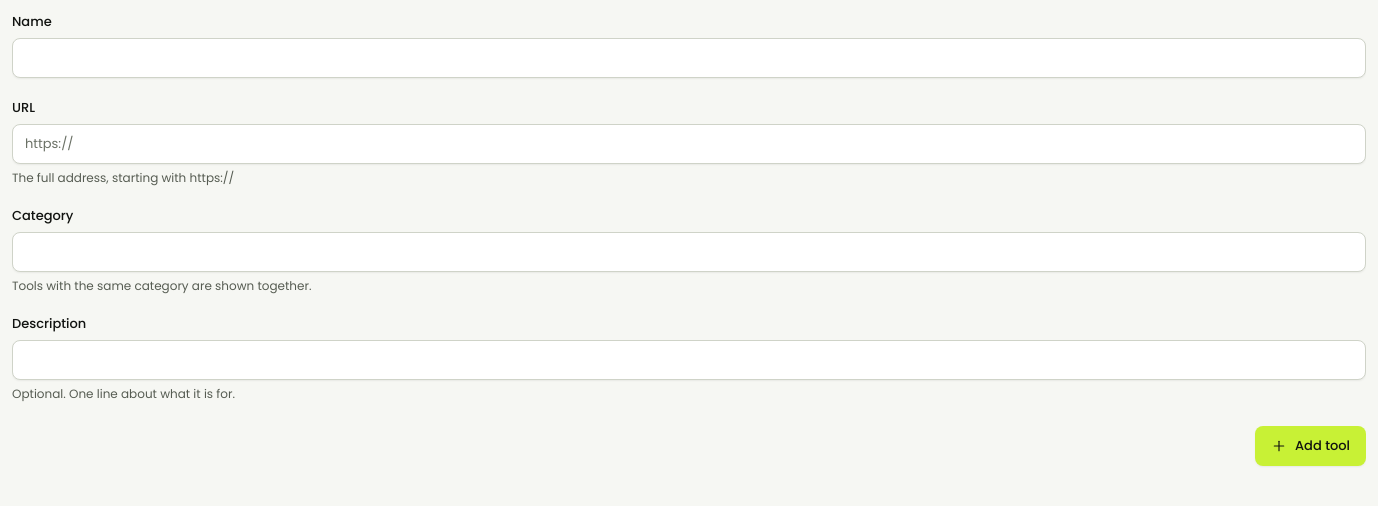
Test: CreateToolForm › shows the server's message under the field it is about, and keeps the input
Type "Payroll" into the field labelled "Name".
click(689, 58); type("Payroll")  # box [12,38,1366,78]
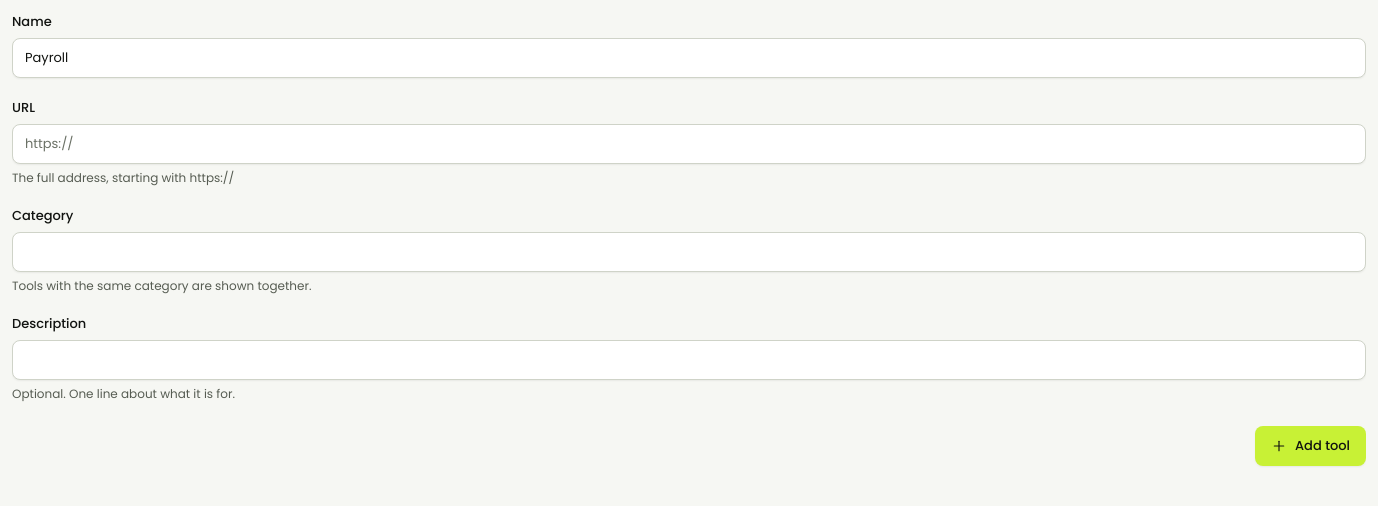
Type "https://payroll.example.com" into the field labelled "URL".
click(689, 144); type("https://payroll.example.com")  # box [12,124,1366,164]
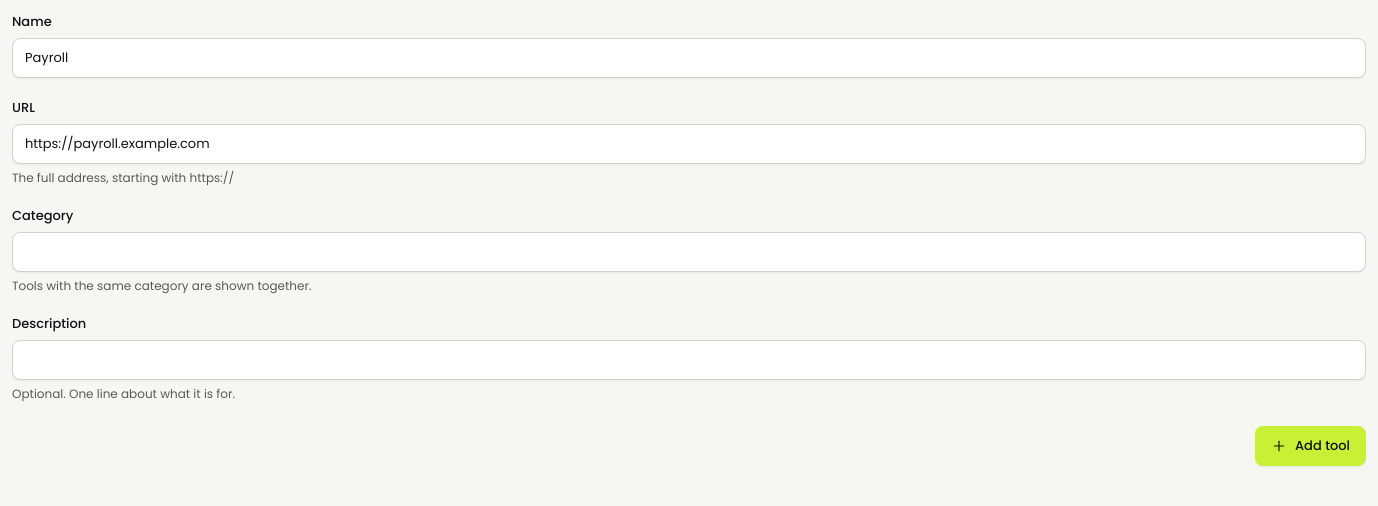
Type "Finance" into the field labelled "Category".
click(689, 252); type("Finance")  # box [12,232,1366,272]
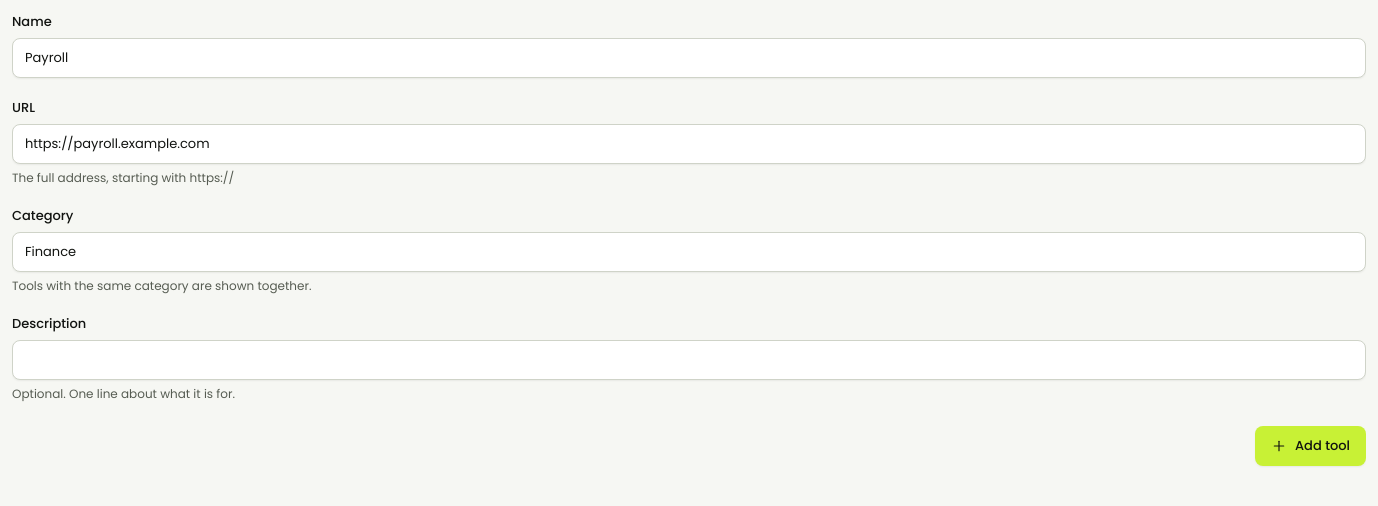
Click the button "Add tool".
click(1311, 446)  # box [1255,426,1366,466]
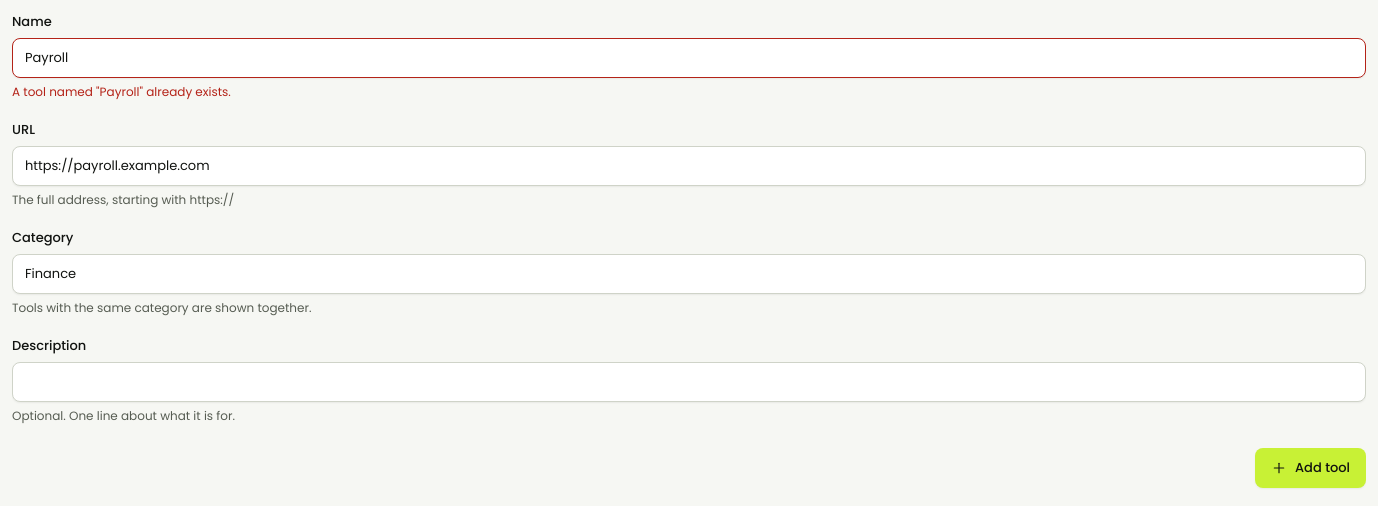
expect the text "A tool named \"Payroll\" already exists." is shown: met, box [12,83,231,100]
